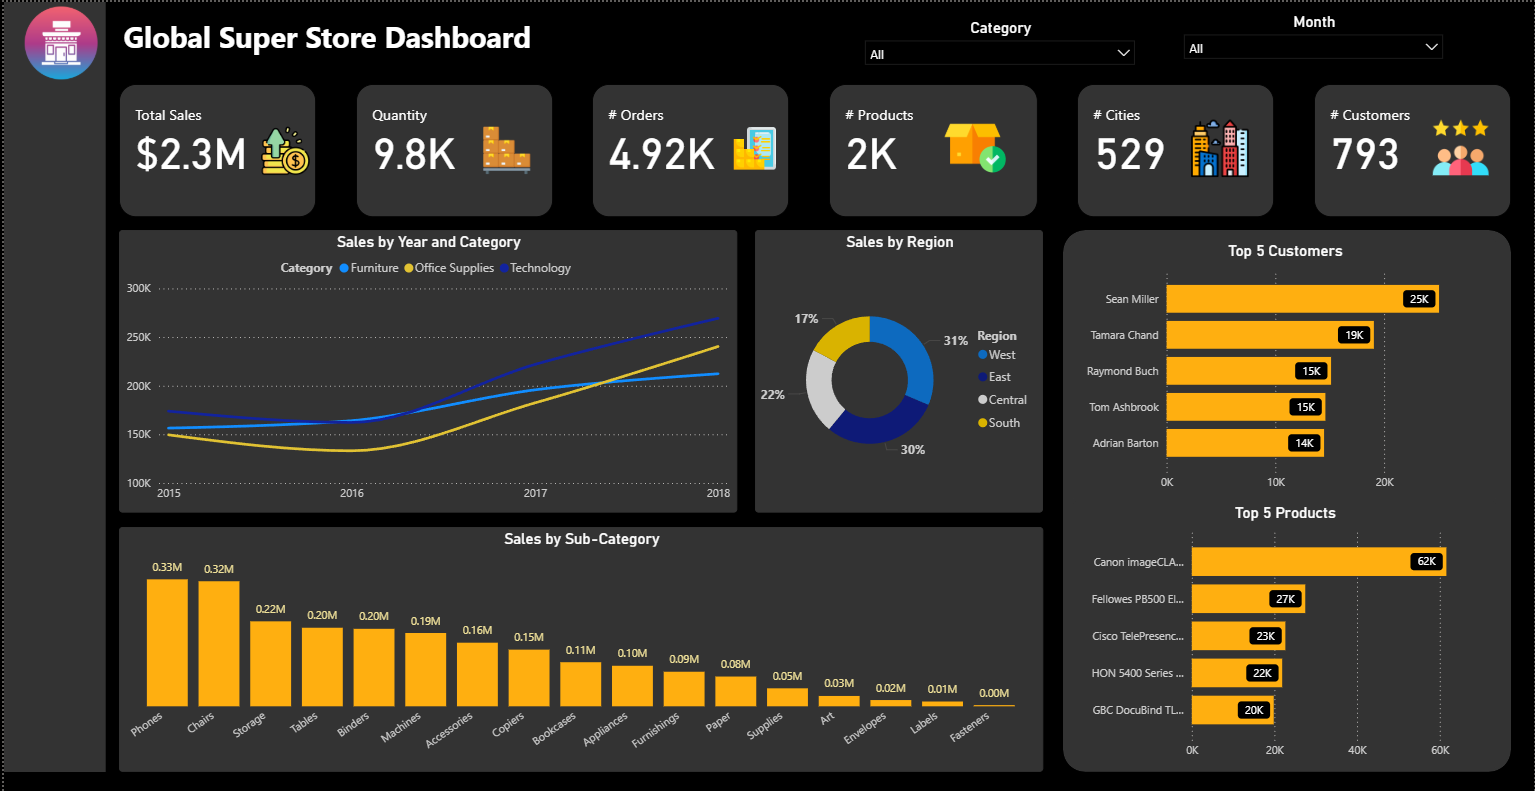

What the dashboard file says about the page in this screenshot:
{"tool":"powerbi","page":{"name":"Page 2","canvas":[1700,999],"ordinal":1},"visuals":[{"type":"cardVisual","title":"Total Sales ","fields":{"Data":["Sales.City"]},"box":[1192.7,91.1,218.9,147.8],"z":0},{"type":"shape","box":[0,0,113.3,855.6],"z":1000},{"type":"cardVisual","title":"Total Sales ","fields":{"Data":["Sales.Order ID"]},"box":[653.6,91.1,218.9,147.8],"z":2000},{"type":"cardVisual","title":"Total Sales ","fields":{"Data":["Sales.Order ID"]},"box":[390.7,91.1,218.9,147.8],"z":3000},{"type":"cardVisual","title":"Total Sales ","fields":{"Data":["Sales.Customer Name"]},"box":[1455.6,91.1,218.9,147.8],"z":4000},{"type":"cardVisual","title":"Total Sales ","fields":{"Data":["Sales.Product Name"]},"box":[916.4,91.1,232.2,147.8],"z":5000},{"type":"cardVisual","title":"Total Sales ","fields":{"Data":["Sales.Total Sales"]},"box":[127.8,91.1,218.9,147.8],"z":6000},{"type":"textbox","box":[127.8,11.1,492.2,56.7],"z":7000},{"type":"columnChart","title":" Sales by Sub-Category","fields":{"Y":["Sales.Sales"],"Category":["Sales.Sub-Category"]},"box":[127.8,583.3,1026.7,272.2],"z":8000},{"type":"shape","box":[1176.7,253.3,497.8,602.2],"z":9000},{"type":"donutChart","title":" Sales by Region","fields":{"Category":["Sales.Region"],"Y":["Sales.Sales"]},"box":[834.4,253.3,320,314.4],"z":10000},{"type":"lineChart","title":" Sales by Year and Category","fields":{"Y":["Sales.Sales"],"Category":["Sales.Order Date.Variation.Date Hierarchy.Year"],"Series":["Sales.Category"]},"box":[127.8,253.3,686.7,314.4],"z":11000},{"type":"clusteredBarChart","title":"Top 5 Customers ","fields":{"Y":["Sales.Sales"],"Category":["Sales.Customer Name"]},"box":[1187.8,263.3,470,291.1],"z":12000},{"type":"clusteredBarChart","title":"Top 5 Products ","fields":{"Y":["Sales.Sales"],"Category":["Sales.Product Name"]},"box":[1187.8,554.4,470,297.8],"z":13000},{"type":"image","box":[266.7,133.3,92.2,64.4],"z":14000},{"type":"image","box":[1565.6,125.6,106.7,72.2],"z":15000},{"type":"image","box":[803.3,126.7,62.2,72.2],"z":16000},{"type":"image","box":[1040,123.3,77.8,78.9],"z":17000},{"type":"image","box":[526.7,127.8,64.4,74.4],"z":18000},{"type":"image","box":[1300,125.6,102.2,74.4],"z":19000},{"type":"slicer","title":"Month","fields":{"Values":["Sales.Month"]},"box":[1300,11.1,310,72.2],"z":20000},{"type":"slicer","title":"Category","fields":{"Values":["Sales.Sub-Category"]},"box":[945.6,17.8,322.2,57.8],"z":21000},{"type":"image","box":[0,0,127.8,91.1],"z":22000}]}

Visuals, with their boxes on the page's 1700x999 design canvas (x1, y1, x2, y2). These are canvas units, not pixel positions in the 1535x791 screenshot, which may show the page scaled, cropped or inside an application window:
"Total Sales " cardVisual: l=1193, t=91, r=1412, b=239
shape: l=0, t=0, r=113, b=856
"Total Sales " cardVisual: l=654, t=91, r=872, b=239
"Total Sales " cardVisual: l=391, t=91, r=610, b=239
"Total Sales " cardVisual: l=1456, t=91, r=1674, b=239
"Total Sales " cardVisual: l=916, t=91, r=1149, b=239
"Total Sales " cardVisual: l=128, t=91, r=347, b=239
textbox: l=128, t=11, r=620, b=68
" Sales by Sub-Category" columnChart: l=128, t=583, r=1154, b=856
shape: l=1177, t=253, r=1674, b=856
" Sales by Region" donutChart: l=834, t=253, r=1154, b=568
" Sales by Year and Category" lineChart: l=128, t=253, r=814, b=568
"Top 5 Customers " clusteredBarChart: l=1188, t=263, r=1658, b=554
"Top 5 Products " clusteredBarChart: l=1188, t=554, r=1658, b=852
image: l=267, t=133, r=359, b=198
image: l=1566, t=126, r=1672, b=198
image: l=803, t=127, r=866, b=199
image: l=1040, t=123, r=1118, b=202
image: l=527, t=128, r=591, b=202
image: l=1300, t=126, r=1402, b=200
"Month" slicer: l=1300, t=11, r=1610, b=83
"Category" slicer: l=946, t=18, r=1268, b=76
image: l=0, t=0, r=128, b=91
